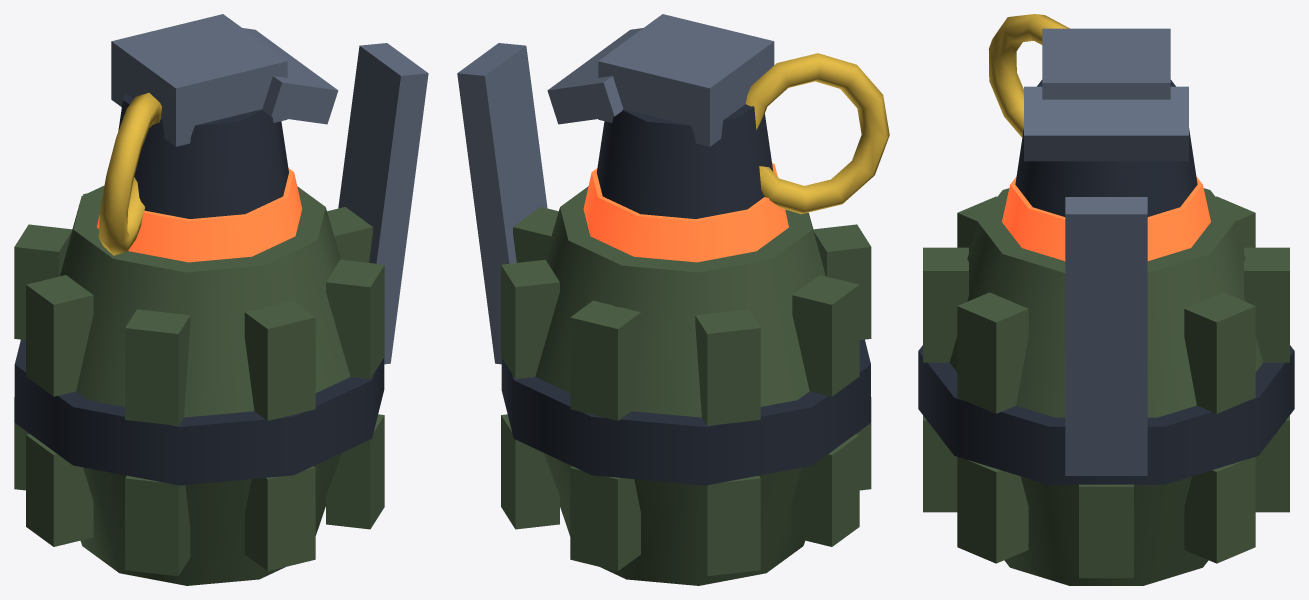
Rendered from grenade.glb.
3 views of the same model, side by side, from view 1: azimuth 30°, elevation 25°; view 2: azimuth 150°, elevation 25°; view 3: azimuth 270°, elevation 25° (orthographic).
Visible parts, largest first — view 1: Grenade, Grenade_body_top, Grenade_frag_band, Grenade_spoon_arm, Grenade_striker, Grenade_fuze_neck, Grenade_body_bot, Grenade_emissive_ring, Grenade_pull_ring, Grenade_spoon_top; view 2: Grenade, Grenade_body_top, Grenade_frag_band, Grenade_fuze_neck, Grenade_spoon_arm, Grenade_striker, Grenade_body_bot, Grenade_pull_ring, Grenade_emissive_ring, Grenade_spoon_top; view 3: Grenade, Grenade_spoon_arm, Grenade_body_top, Grenade_frag_band, Grenade_body_bot, Grenade_spoon_top, Grenade_striker, Grenade_fuze_neck, Grenade_emissive_ring, Grenade_pull_ring.
Boxes of the visible parts, x1,y1,x2,y2 form: Grenade: (14, 193, 384, 576); Grenade_body_top: (60, 185, 350, 417); Grenade_frag_band: (14, 339, 384, 485); Grenade_spoon_arm: (338, 43, 428, 364); Grenade_striker: (111, 14, 287, 146); Grenade_fuze_neck: (118, 93, 288, 218); Grenade_body_bot: (80, 453, 341, 585); Grenade_emissive_ring: (97, 168, 302, 262); Grenade_pull_ring: (98, 92, 161, 255); Grenade_spoon_top: (243, 28, 338, 124); Grenade: (501, 207, 871, 576); Grenade_body_top: (535, 186, 825, 417); Grenade_frag_band: (501, 339, 870, 485); Grenade_fuze_neck: (596, 104, 773, 218); Grenade_spoon_arm: (457, 43, 547, 364); Grenade_striker: (598, 14, 774, 146); Grenade_body_bot: (544, 453, 804, 585); Grenade_pull_ring: (745, 53, 889, 214); Grenade_emissive_ring: (583, 163, 788, 262); Grenade_spoon_top: (547, 28, 642, 124); Grenade: (923, 196, 1289, 578); Grenade_spoon_arm: (1065, 197, 1147, 475); Grenade_body_top: (949, 188, 1263, 417); Grenade_frag_band: (918, 345, 1294, 484); Grenade_body_bot: (1004, 476, 1208, 585); Grenade_spoon_top: (1024, 86, 1188, 161); Grenade_striker: (1042, 28, 1170, 99); Grenade_fuze_neck: (1015, 80, 1197, 216); Grenade_emissive_ring: (1002, 176, 1210, 260); Grenade_pull_ring: (988, 14, 1069, 137).
Bounding box in the file's own units: 0.0922 × 0.116 × 0.082.
